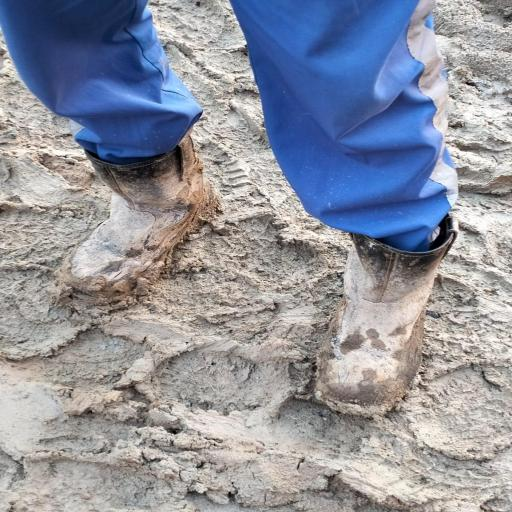safety_shoe: (51, 150, 227, 292), (322, 224, 447, 414)
